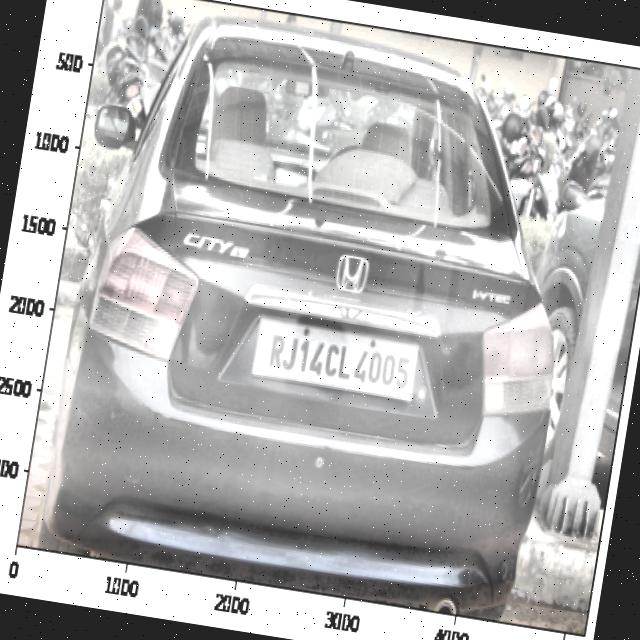license_plate: (257, 320, 420, 404)
